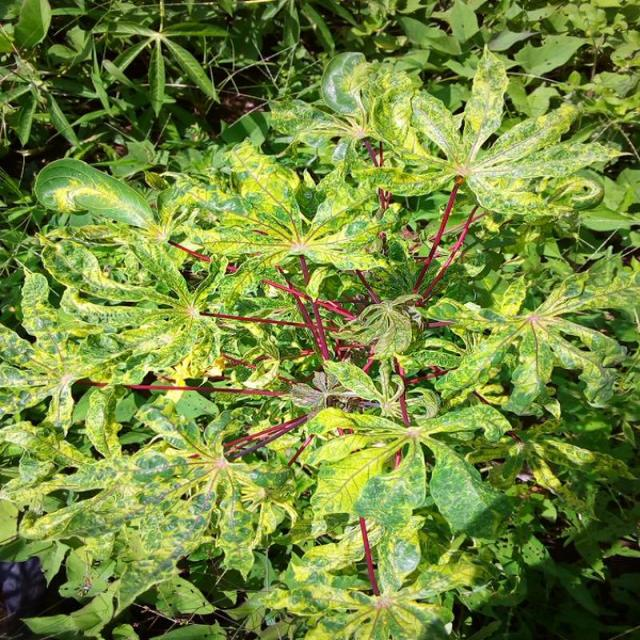cassava leaf: (1, 40, 636, 637), (32, 156, 156, 233)
